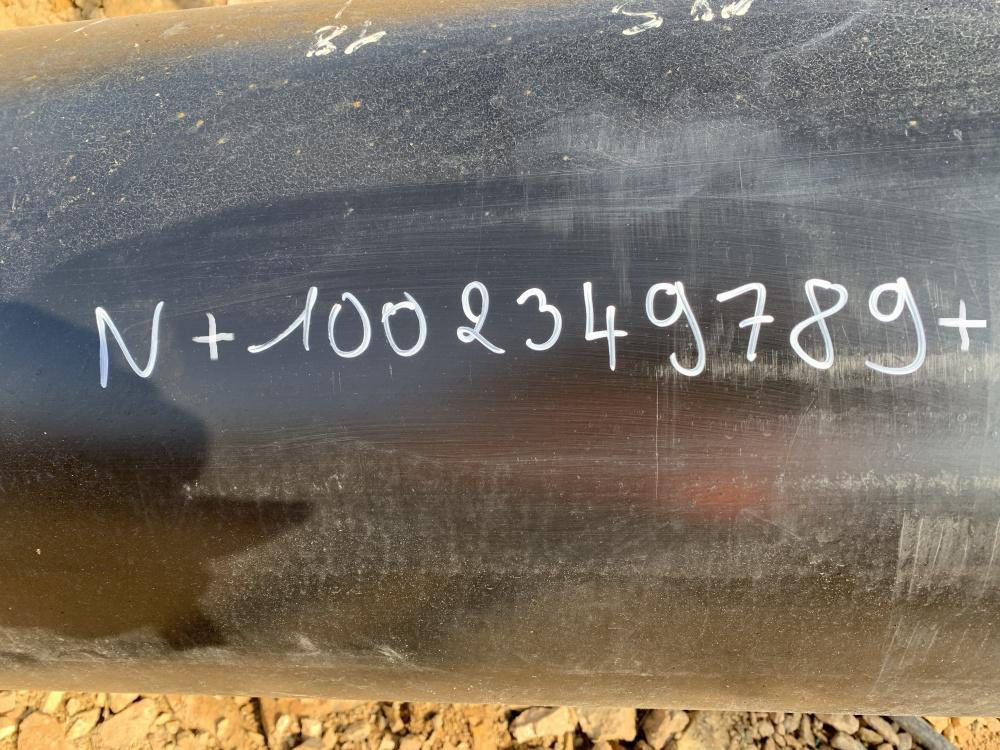+: (937, 298, 988, 353), (191, 312, 232, 358)
0: (327, 290, 370, 364), (382, 295, 427, 359)
1: (250, 286, 318, 359)
2: (457, 280, 507, 360)
3: (517, 286, 562, 354)
4: (579, 277, 630, 371)
7: (719, 278, 776, 363)
8: (790, 275, 851, 374)
9: (864, 273, 926, 379), (644, 282, 708, 378)
N: (90, 298, 168, 392)
